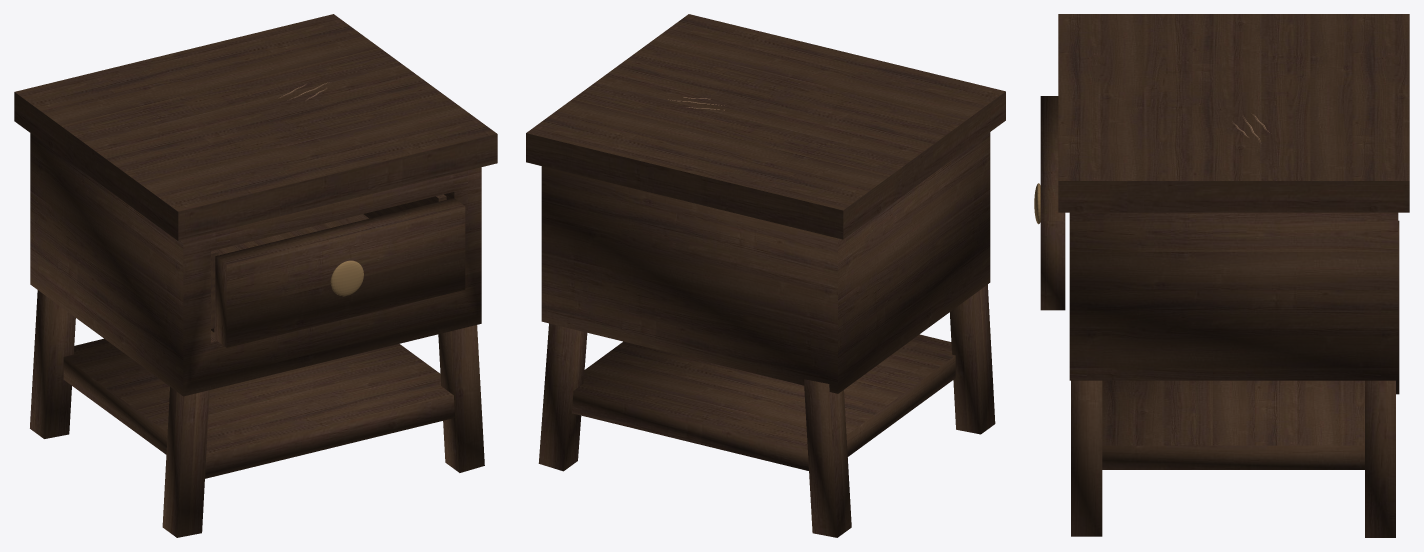
File: bedside_table.glb
3 renders of one model, left to right at view 1: azimuth 30°, elevation 25°; view 2: azimuth 150°, elevation 25°; view 3: azimuth 270°, elevation 25°, orthographic. The views are drawn at different scales.
Parts seen in each view (by area): view 1: BedsideTable, BedsideTableCabinet, BedsideDrawerFront, BedsideDrawerFloor, BedsideDrawerKnob; view 2: BedsideTable, BedsideTableCabinet; view 3: BedsideTable, BedsideTableCabinet, BedsideDrawerFront.
Part boxes in pixels (x1=…): BedsideTable: x1=14, y1=14, x2=497, y2=537; BedsideTableCabinet: x1=30, y1=133, x2=481, y2=396; BedsideDrawerFront: x1=215, y1=198, x2=465, y2=347; BedsideDrawerFloor: x1=211, y1=214, x2=368, y2=332; BedsideDrawerKnob: x1=330, y1=260, x2=363, y2=296; BedsideTable: x1=526, y1=14, x2=1005, y2=537; BedsideTableCabinet: x1=541, y1=132, x2=990, y2=393; BedsideTable: x1=1058, y1=14, x2=1409, y2=537; BedsideTableCabinet: x1=1069, y1=212, x2=1398, y2=380; BedsideDrawerFront: x1=1040, y1=96, x2=1065, y2=310.
Bounding box in the file's own units: 0.5393 × 0.546 × 0.5119.
5 materials, 2 textured.
